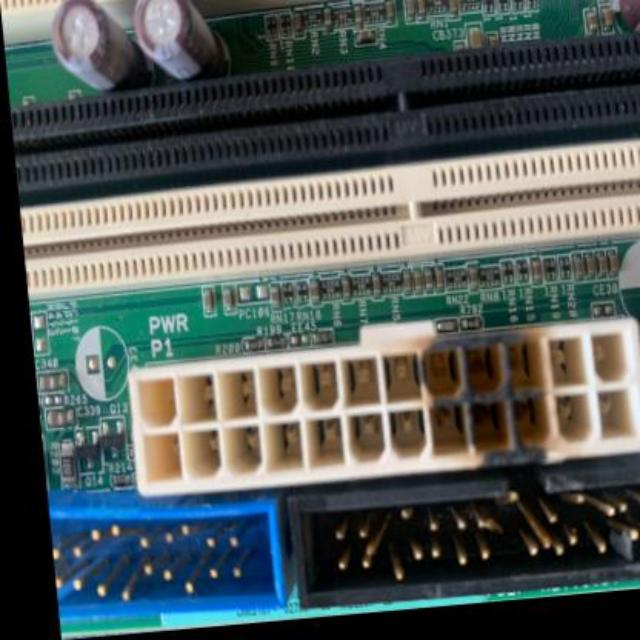PCB: (2, 0, 640, 640)
